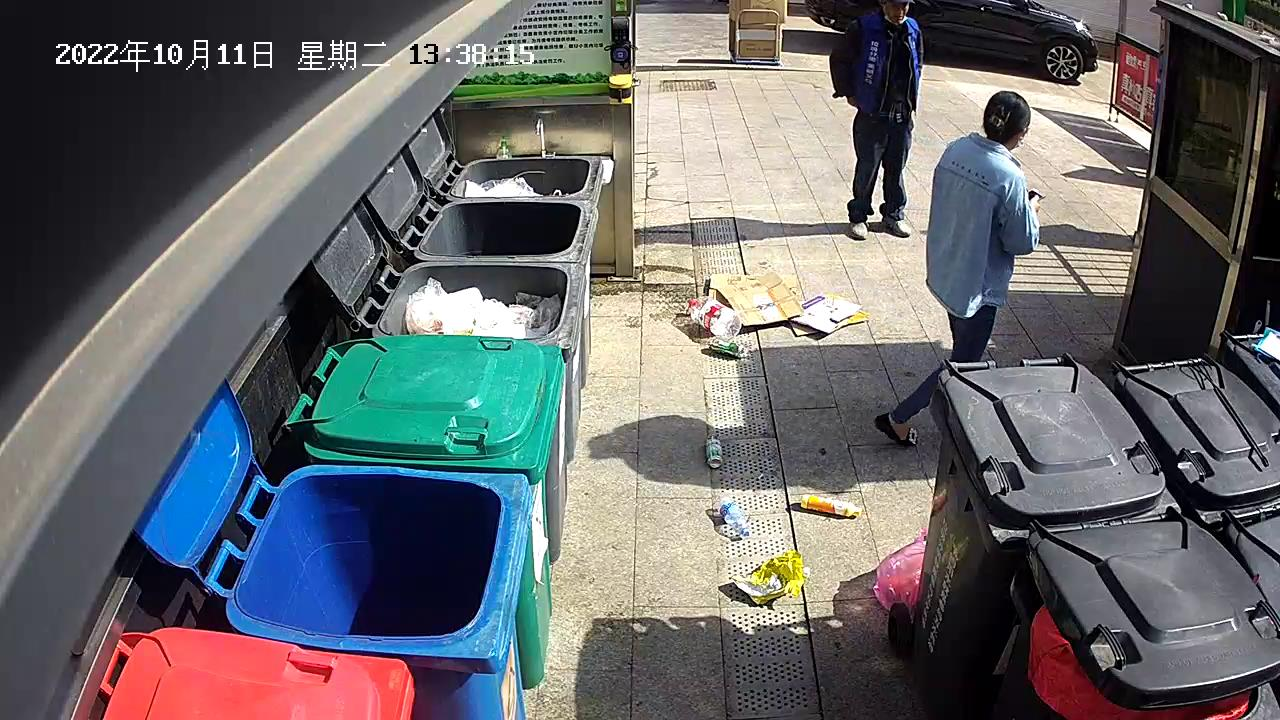garbage: (724, 545, 818, 605)
garbage-bag: (868, 523, 938, 614)
lvzhipin: (705, 331, 753, 364), (702, 429, 727, 471)
suliaozhipin: (680, 290, 744, 340), (797, 490, 868, 523), (716, 493, 760, 540)
worker: (871, 87, 1052, 452), (825, 1, 926, 247)
zhizhipin: (698, 264, 806, 329), (786, 289, 872, 341)
